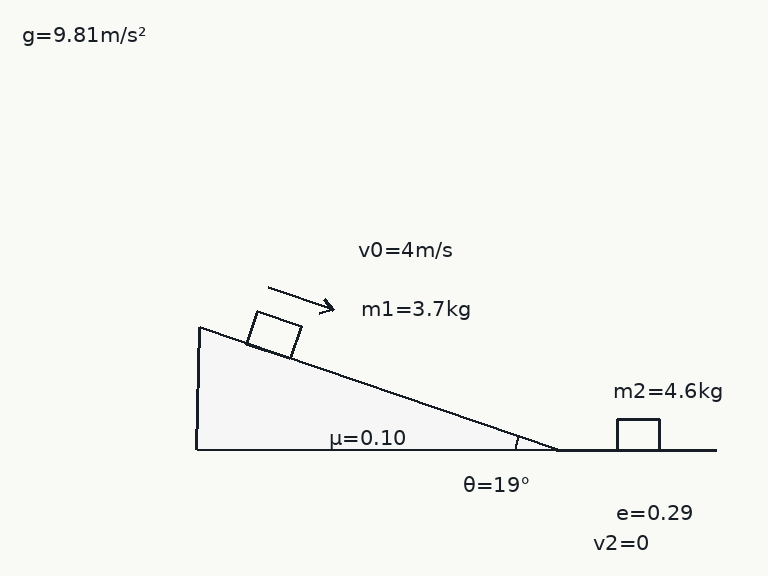block: (244, 309, 303, 360), (615, 417, 661, 452)
ramp: (197, 325, 558, 452)
